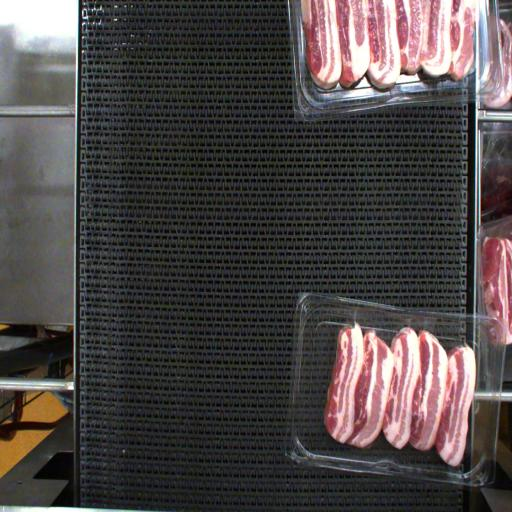packaging-error: (350, 302, 360, 328)
